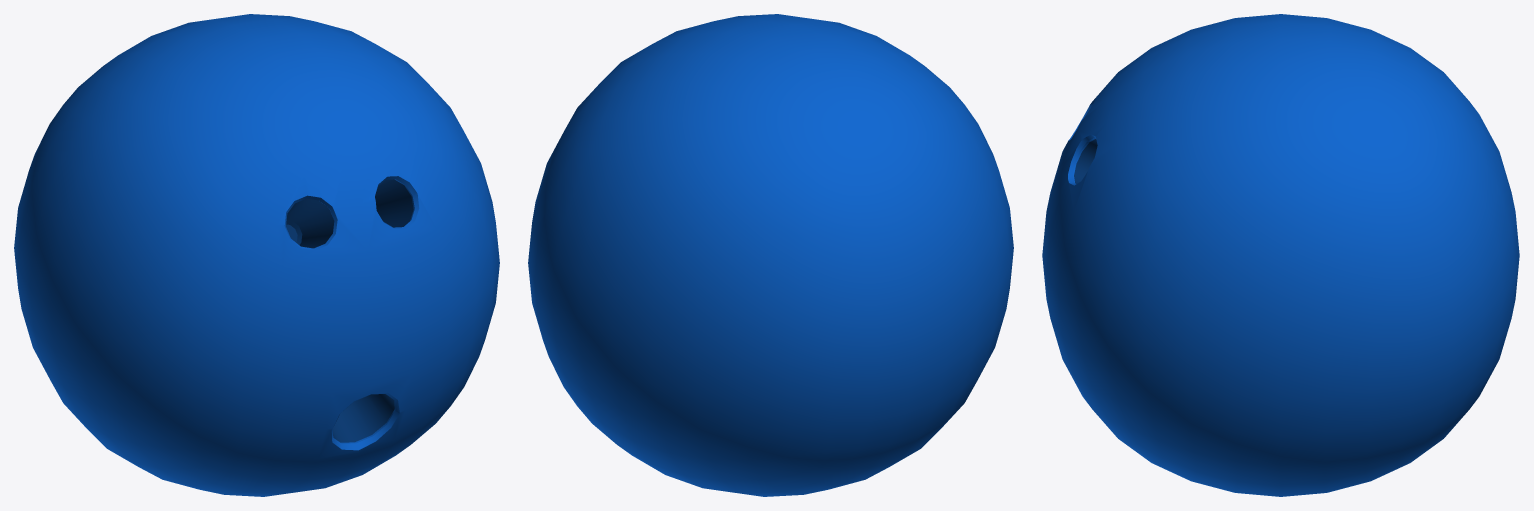
The model's file is BowlingBall.fbx.
3 renders of one model, left to right at view 1: azimuth 30°, elevation 25°; view 2: azimuth 150°, elevation 25°; view 3: azimuth 270°, elevation 25°, orthographic.
Visible parts, largest first — view 1: Ball; view 2: Ball; view 3: Ball.
Part boxes in pixels (<box>): Ball: <box>14,14,499,496</box>; Ball: <box>528,14,1013,496</box>; Ball: <box>1042,14,1519,496</box>.
Size of the model in its own units: 21.83 by 21.83 by 21.83.
